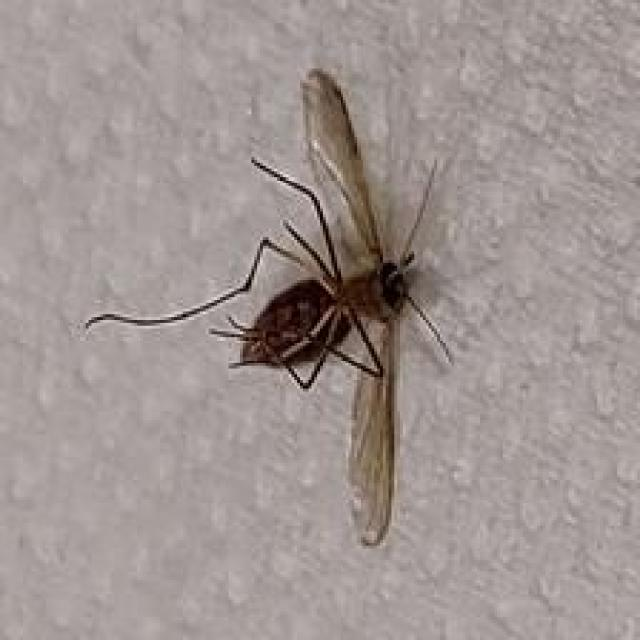Culex: (81, 64, 462, 547)
